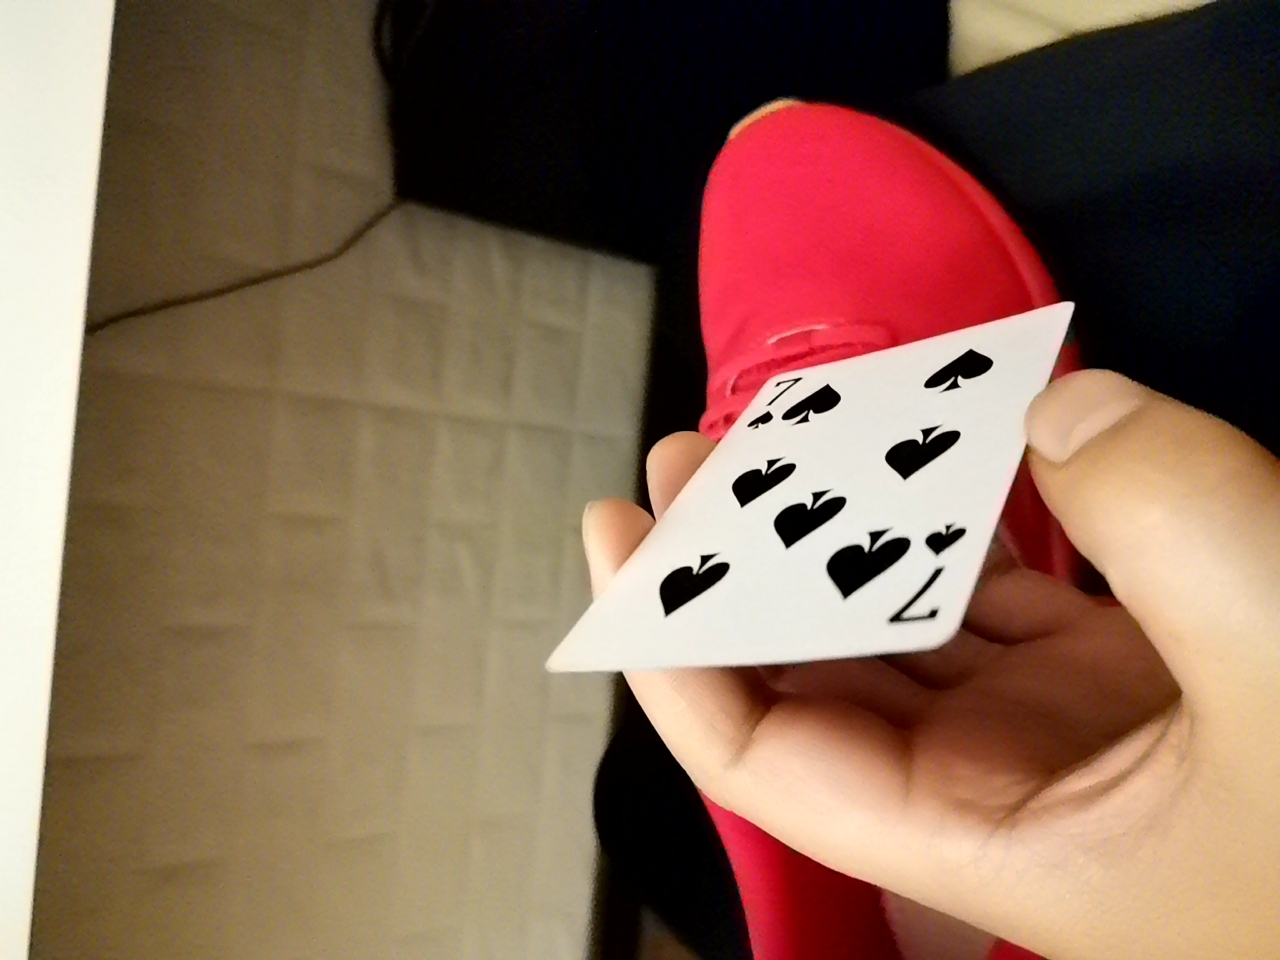ht 7: (572, 339, 1054, 704)
